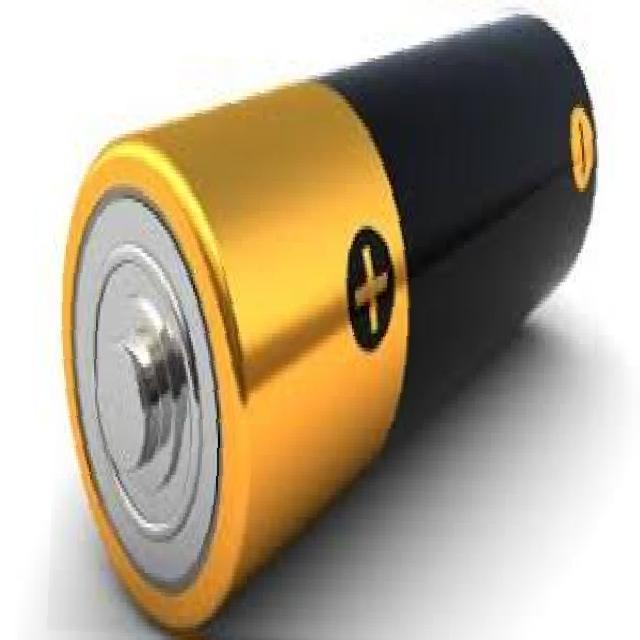Battery: (58, 10, 602, 635)
